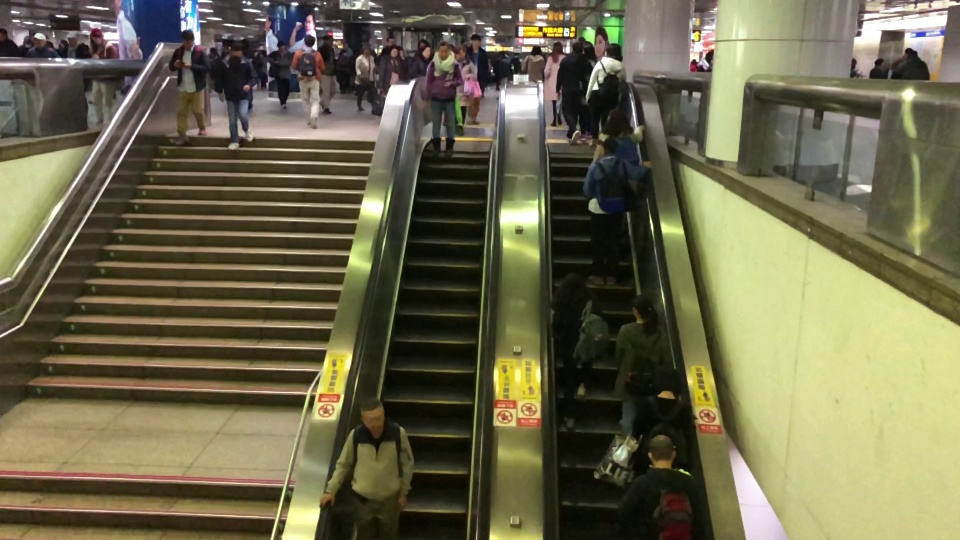person_head: (646, 432, 677, 468), (359, 397, 386, 433), (655, 364, 684, 396), (601, 107, 630, 136), (559, 271, 584, 301), (631, 293, 653, 323), (596, 136, 619, 156), (602, 41, 622, 62), (88, 27, 104, 46), (182, 29, 195, 50), (229, 42, 244, 60), (437, 40, 451, 59), (33, 32, 48, 49), (452, 45, 467, 61), (301, 34, 316, 49), (581, 43, 595, 59), (418, 43, 431, 60), (65, 31, 78, 47), (470, 32, 482, 49), (530, 42, 542, 56), (385, 35, 397, 48), (275, 40, 286, 54), (552, 41, 563, 55), (323, 35, 335, 47), (388, 45, 399, 58), (572, 41, 583, 54), (360, 44, 371, 56), (905, 50, 918, 60), (873, 56, 884, 67), (0, 28, 8, 40)
person_vbox: (319, 395, 414, 540), (582, 137, 655, 285), (548, 272, 610, 429), (615, 434, 706, 540), (613, 295, 665, 437), (631, 367, 697, 475), (211, 43, 258, 150), (168, 29, 211, 144), (423, 41, 463, 157), (585, 43, 626, 148), (557, 42, 594, 143), (589, 108, 645, 167), (86, 27, 120, 124), (291, 35, 325, 129), (453, 43, 478, 136), (465, 33, 490, 125), (576, 42, 598, 141), (543, 41, 568, 127), (60, 31, 93, 91), (265, 40, 293, 108), (353, 45, 379, 112), (318, 35, 338, 115), (381, 46, 408, 94), (890, 51, 931, 81), (25, 32, 61, 58), (521, 43, 545, 81), (409, 44, 433, 78), (0, 28, 24, 57), (868, 57, 888, 79)
